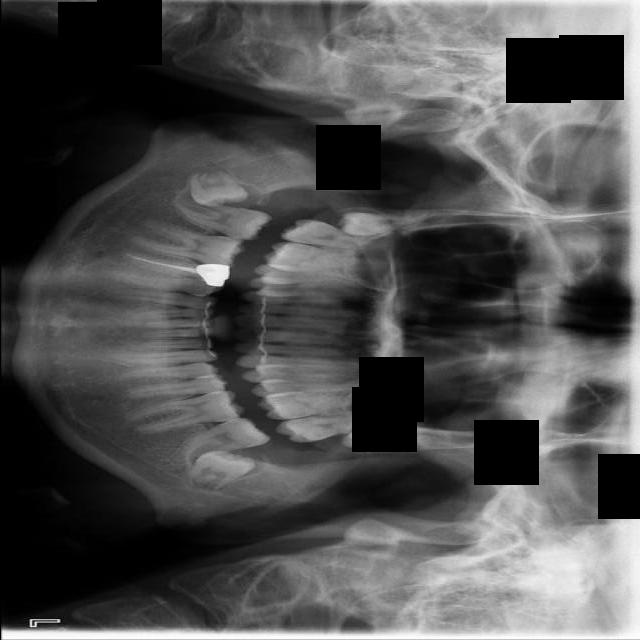3M ESPE Implant: (339, 212, 430, 237)
52: (186, 257, 234, 289)
73: (114, 249, 194, 280), (48, 602, 62, 606)
BioHorizons Implant: (272, 405, 396, 446)
BioLife Implant: (339, 421, 434, 455)
Biomet 3i Implant: (179, 448, 256, 494)
Blue Sky Bio Implant: (175, 408, 274, 467)
Caries: (278, 214, 390, 257)
Implant: (167, 187, 274, 249)
Keystone Dental Implant: (188, 167, 248, 210)
